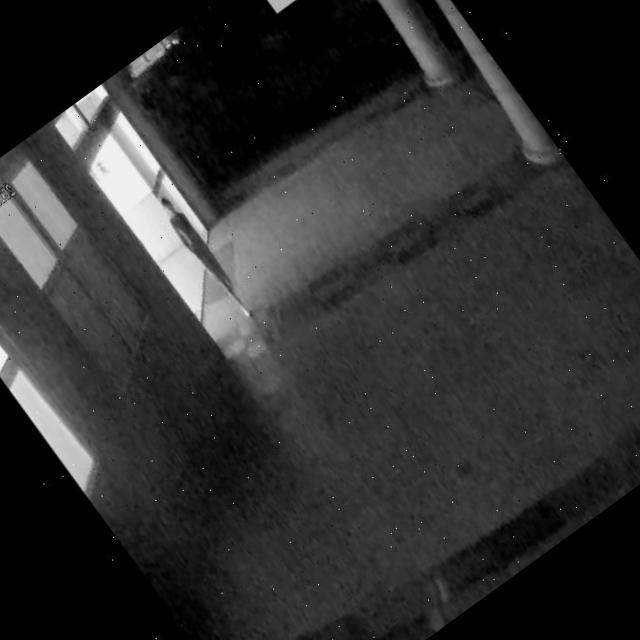person: (152, 190, 260, 328)
